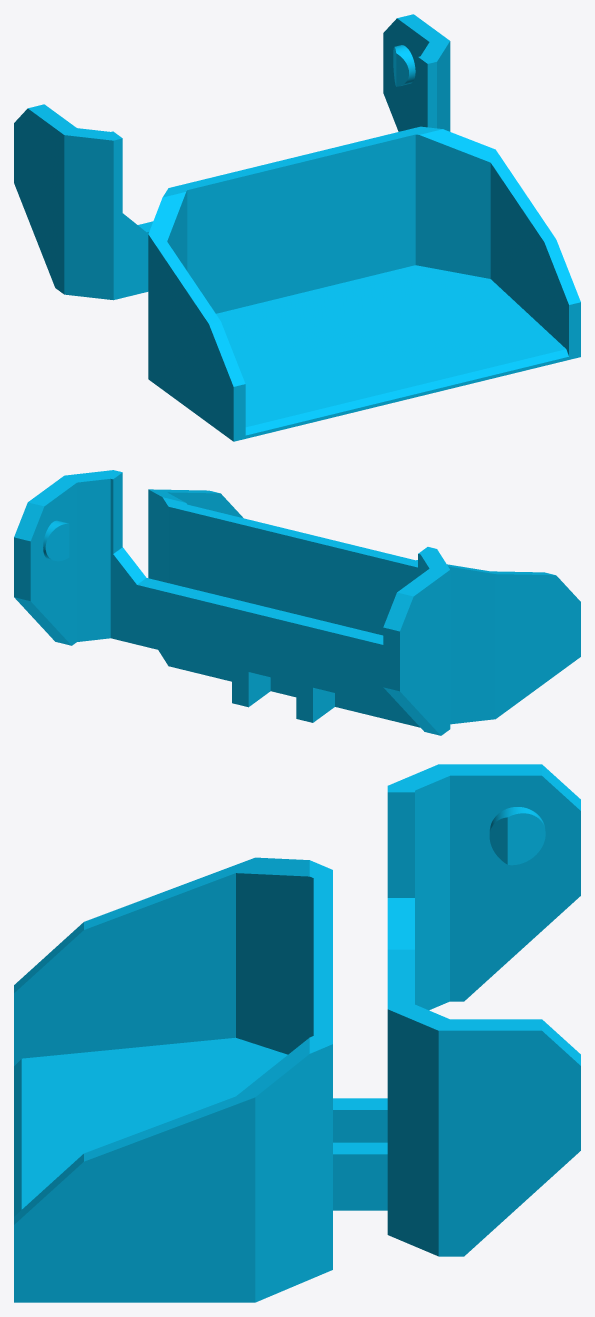
The model's file is bumper_oriented.glb.
3 views of the same model, one above another, from view 1: azimuth 30°, elevation 25°; view 2: azimuth 150°, elevation 25°; view 3: azimuth 270°, elevation 25° (orthographic). The views are drawn at different scales.
Visible parts, largest first — view 1: Node1; view 2: Node1; view 3: Node1.
Boxes of the visible parts, x1,y1,x2,y2 form: Node1: (14, 14, 580, 441); Node1: (14, 470, 580, 735); Node1: (14, 764, 580, 1302).
Size of the model in its own units: 81 by 40.43 by 72.84.
